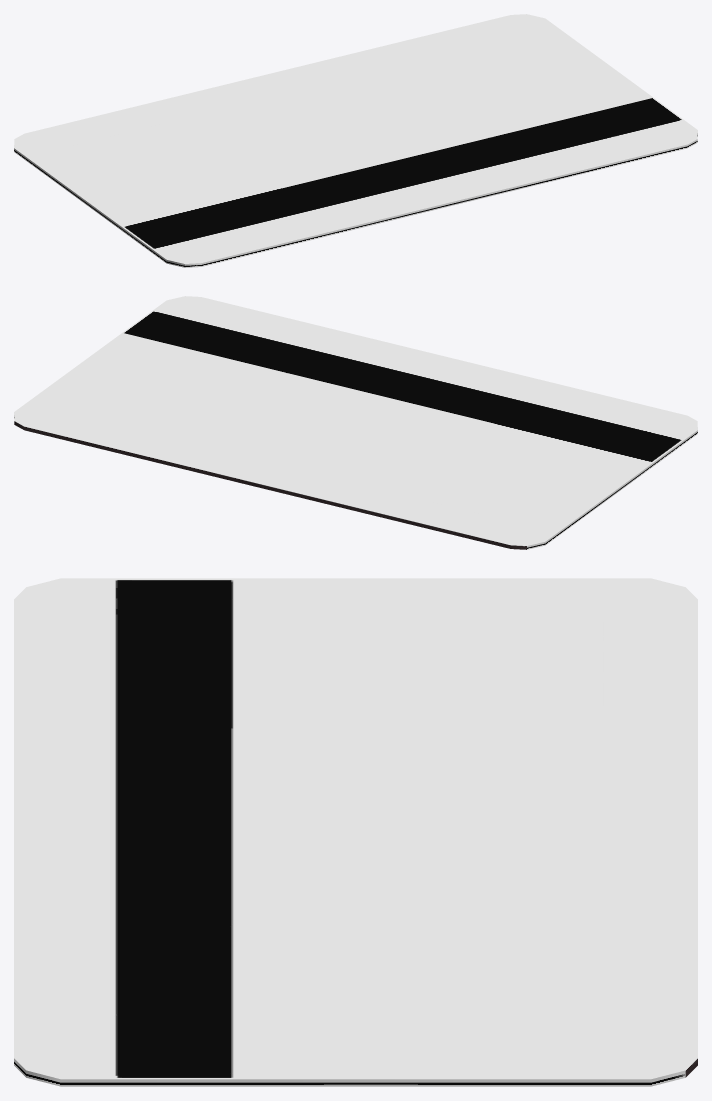
File: Keycard.fbx
The picture shows the model from 3 angles, top to bottom: view 1: azimuth 30°, elevation 25°; view 2: azimuth 150°, elevation 25°; view 3: azimuth 270°, elevation 25°; orthographic projection. The views are drawn at different scales.
Parts seen in each view (by area): view 1: pCube3; view 2: pCube3; view 3: pCube3.
Part boxes in pixels (x1,y1,x2,y2): pCube3: (14, 14, 697, 267); pCube3: (14, 296, 697, 549); pCube3: (14, 578, 697, 1086).
Size of the model in its own units: 4.76 by 0.0326 by 2.74.
Materials: 1 (1 with a texture image).
